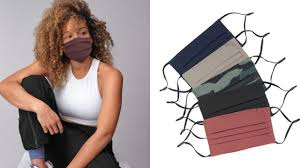cloth_mask: (177, 107, 300, 154), (63, 35, 95, 61)
